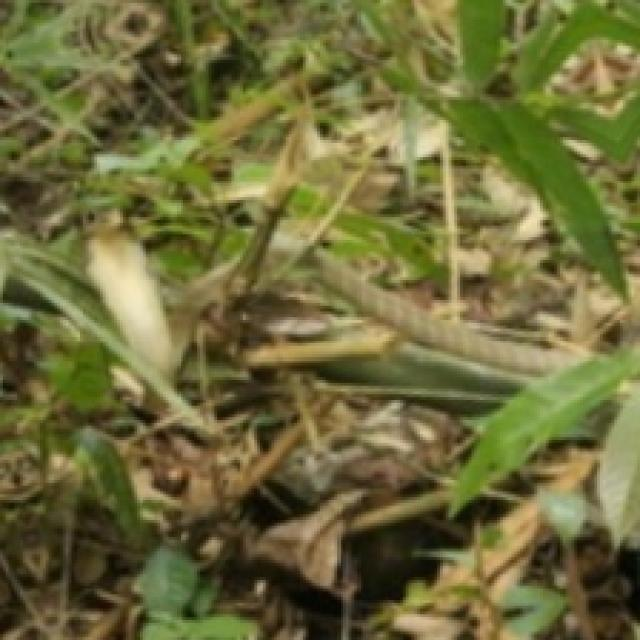king cobra: (311, 251, 571, 374), (85, 210, 246, 374)
